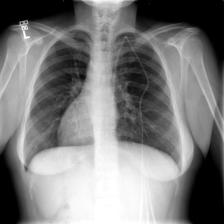normal: (17, 23, 186, 174)
